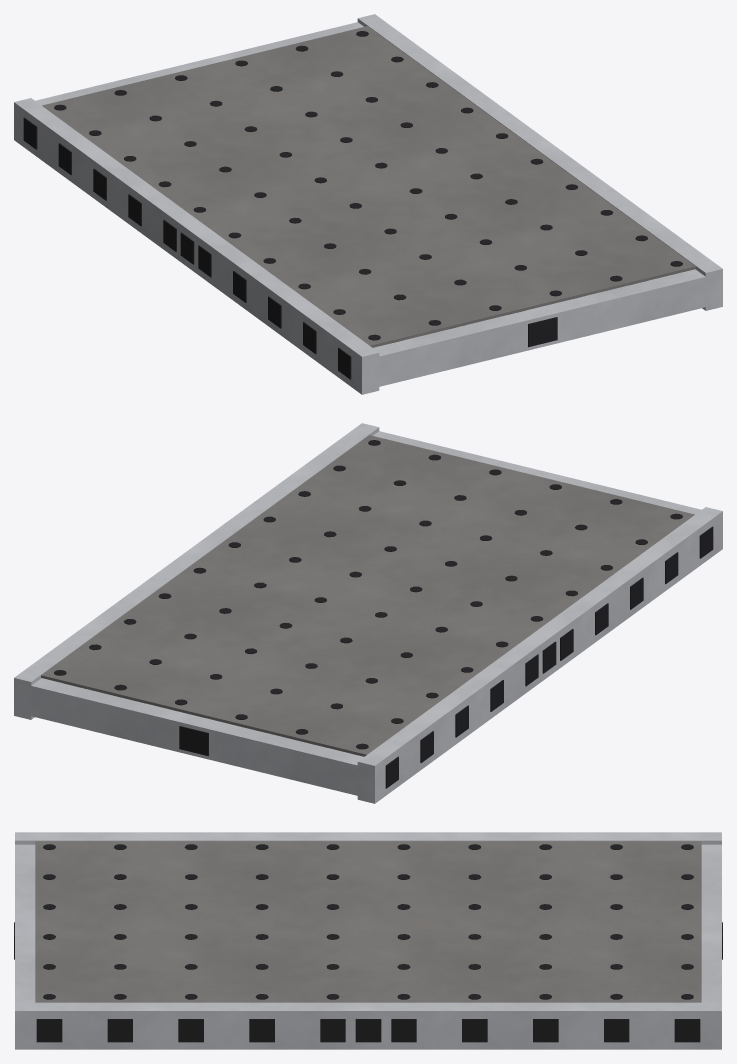
The model's file is rover13_chassis_frame_l.glb.
3 renders of one model, top to bottom at view 1: azimuth 30°, elevation 25°; view 2: azimuth 150°, elevation 25°; view 3: azimuth 270°, elevation 25°, orthographic.
Parts seen in each view (by area): view 1: deck_top, rails, end_beams, sockets_top, hardpoints, end_hardpoints; view 2: deck_top, rails, end_beams, sockets_top, hardpoints, end_hardpoints; view 3: deck_top, rails, hardpoints, end_beams, sockets_top.
Part boxes in pixels (<box>): deck_top: <box>42,26,695,347</box>; rails: <box>14,14,722,394</box>; end_beams: <box>35,22,705,386</box>; sockets_top: <box>54,31,682,340</box>; hardpoints: <box>23,117,351,379</box>; end_hardpoints: <box>528,317,557,347</box>; deck_top: <box>41,435,694,756</box>; rails: <box>14,423,722,803</box>; end_beams: <box>31,431,701,795</box>; sockets_top: <box>54,440,682,749</box>; hardpoints: <box>385,526,713,788</box>; end_hardpoints: <box>179,726,208,756</box>; deck_top: <box>35,841,701,1002</box>; rails: <box>15,832,721,1049</box>; hardpoints: <box>36,1019,700,1042</box>; end_beams: <box>15,844,721,1002</box>; sockets_top: <box>43,844,693,999</box>.
Bounding box in the file's own units: 3 × 0.3 × 5.
Materials: 3 (2 with a texture image).
